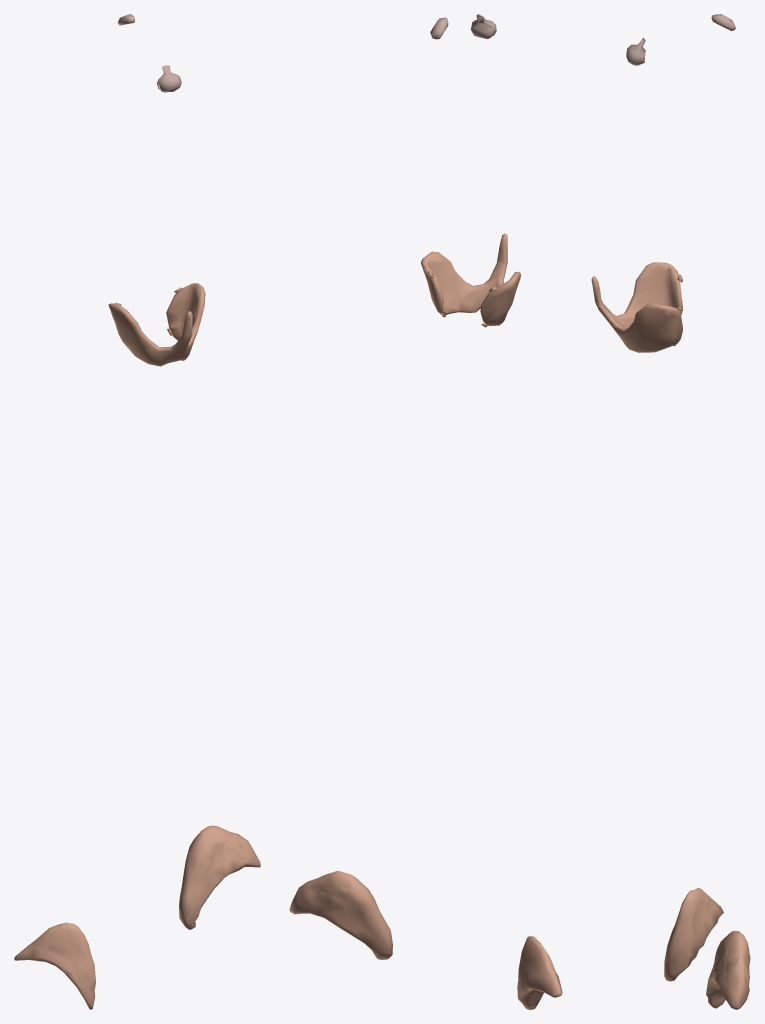
Rendered from adult_male.endocrine.LOD4.glb.
The picture shows the model from 3 angles, left to right: view 1: azimuth 30°, elevation 25°; view 2: azimuth 150°, elevation 25°; view 3: azimuth 270°, elevation 25°; orthographic projection. The views are drawn at different scales.
Parts seen in each view (by area): view 1: ADULT.MALE.ENDOCRINE.SUPRARENAL_GLAND.L, ADULT.MALE.ENDOCRINE.THYROID_GLAND, ADULT.MALE.ENDOCRINE.SUPRARENAL_GLAND.R; view 2: ADULT.MALE.ENDOCRINE.SUPRARENAL_GLAND.L, ADULT.MALE.ENDOCRINE.THYROID_GLAND, ADULT.MALE.ENDOCRINE.SUPRARENAL_GLAND.R; view 3: ADULT.MALE.ENDOCRINE.THYROID_GLAND, ADULT.MALE.ENDOCRINE.SUPRARENAL_GLAND.R, ADULT.MALE.ENDOCRINE.SUPRARENAL_GLAND.L.
Boxes of the visible parts, x1,y1,x2,y2 form: ADULT.MALE.ENDOCRINE.SUPRARENAL_GLAND.L: (179,825,260,929); ADULT.MALE.ENDOCRINE.THYROID_GLAND: (108,283,205,366); ADULT.MALE.ENDOCRINE.SUPRARENAL_GLAND.R: (14,922,95,1009); ADULT.MALE.ENDOCRINE.SUPRARENAL_GLAND.L: (289,871,392,959); ADULT.MALE.ENDOCRINE.THYROID_GLAND: (421,233,520,326); ADULT.MALE.ENDOCRINE.SUPRARENAL_GLAND.R: (517,936,562,1009); ADULT.MALE.ENDOCRINE.THYROID_GLAND: (591,262,682,352); ADULT.MALE.ENDOCRINE.SUPRARENAL_GLAND.R: (664,888,723,981); ADULT.MALE.ENDOCRINE.SUPRARENAL_GLAND.L: (706,931,750,1009).
Size of the model in its own units: 0.138 by 0.4992 by 0.0721.
